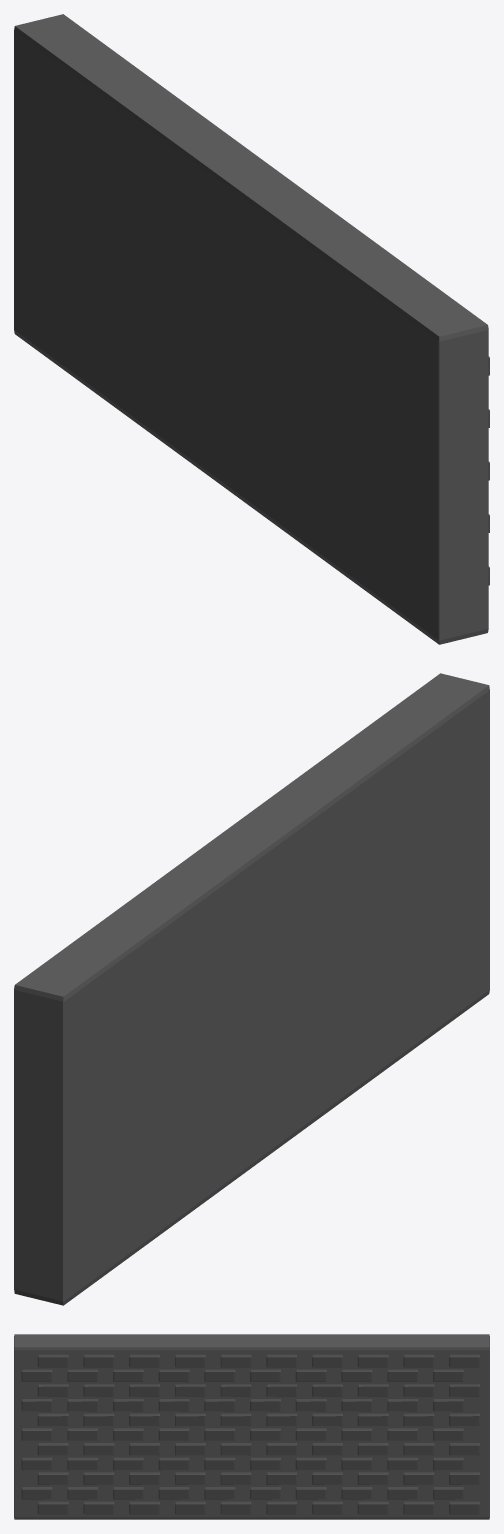
File: wall.fbx
3 renders of one model, top to bottom at view 1: azimuth 30°, elevation 25°; view 2: azimuth 150°, elevation 25°; view 3: azimuth 270°, elevation 25°, orthographic. The views are drawn at different scales.
Parts seen in each view (by area): view 1: wall; view 2: wall; view 3: wall.
Part boxes in pixels (x1,y1,x2,y2): wall: (14, 14, 489, 644); wall: (14, 673, 489, 1305); wall: (14, 1334, 489, 1519).
Size of the model in its own units: 233 by 1174 by 2938.
